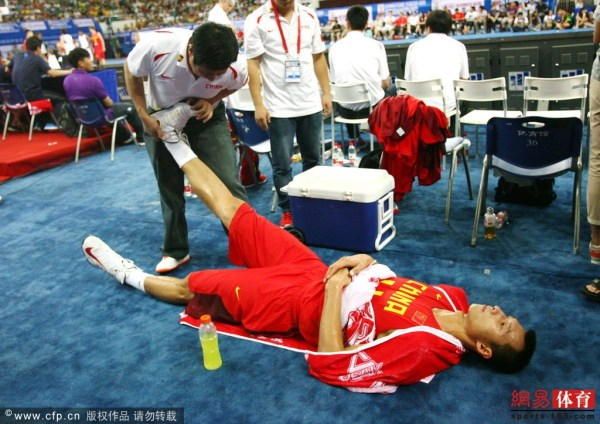10+: (1, 1, 596, 401)
down: (83, 99, 539, 382)
